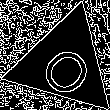O_NE: (30, 30, 98, 96)
